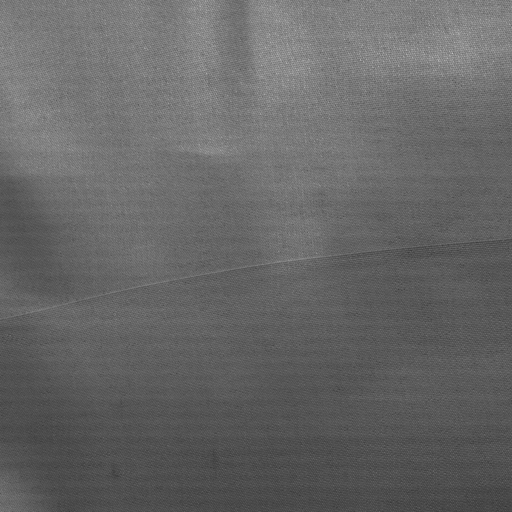defect: (1, 235, 512, 329)
